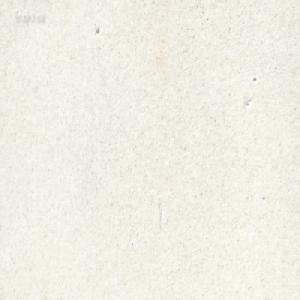Wrench: (162, 0, 169, 4)
